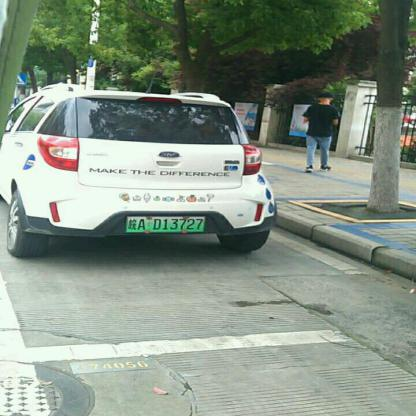lp: (127, 218, 205, 232)
